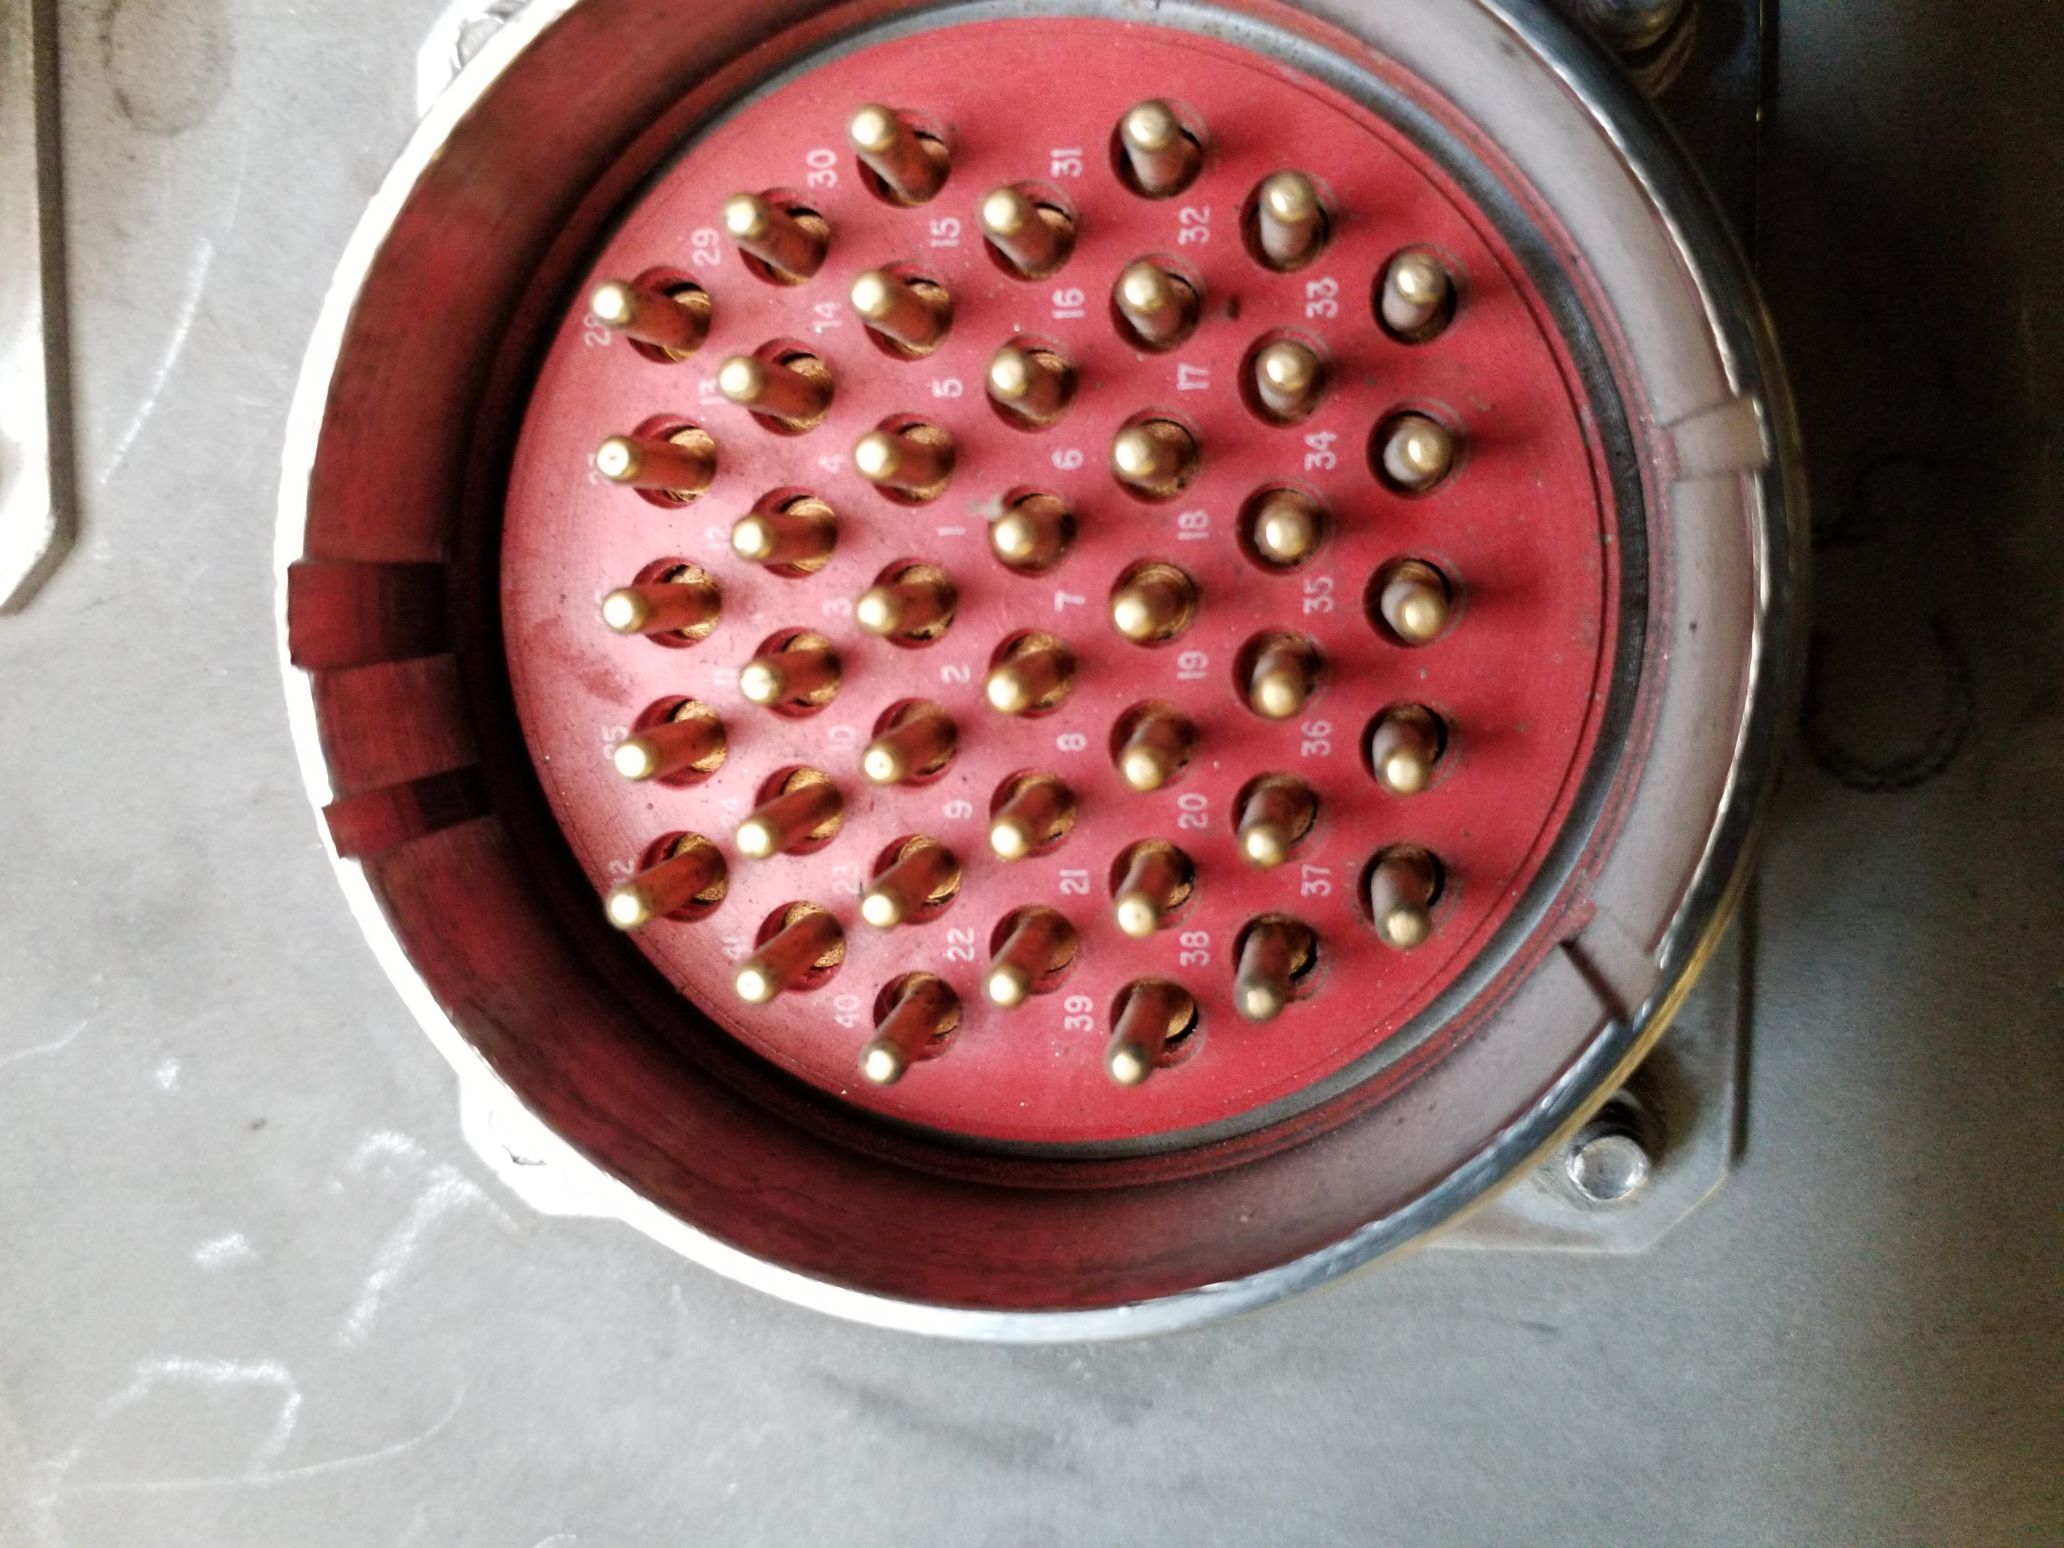outlet: (280, 15, 1789, 1332)
